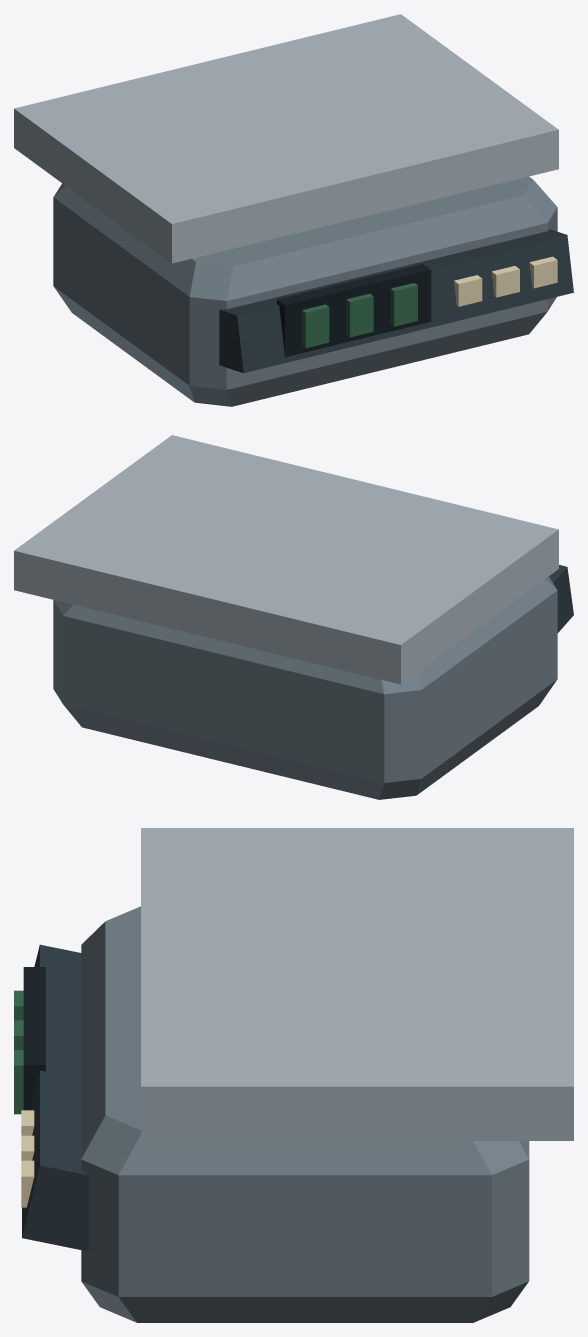
The model's file is b14_countertop_parcel_postage_scale.glb.
3 renders of one model, top to bottom at view 1: azimuth 30°, elevation 25°; view 2: azimuth 150°, elevation 25°; view 3: azimuth 270°, elevation 25°, orthographic. The views are drawn at different scales.
Visible parts, largest first — view 1: b14_countertop_parcel_postage_scale; view 2: b14_countertop_parcel_postage_scale; view 3: b14_countertop_parcel_postage_scale.
Boxes of the visible parts, x1,y1,x2,y2 form: b14_countertop_parcel_postage_scale: (14,14,573,406); b14_countertop_parcel_postage_scale: (14,435,573,799); b14_countertop_parcel_postage_scale: (14,828,573,1322).
Size of the model in its own units: 0.41 by 0.185 by 0.375.
